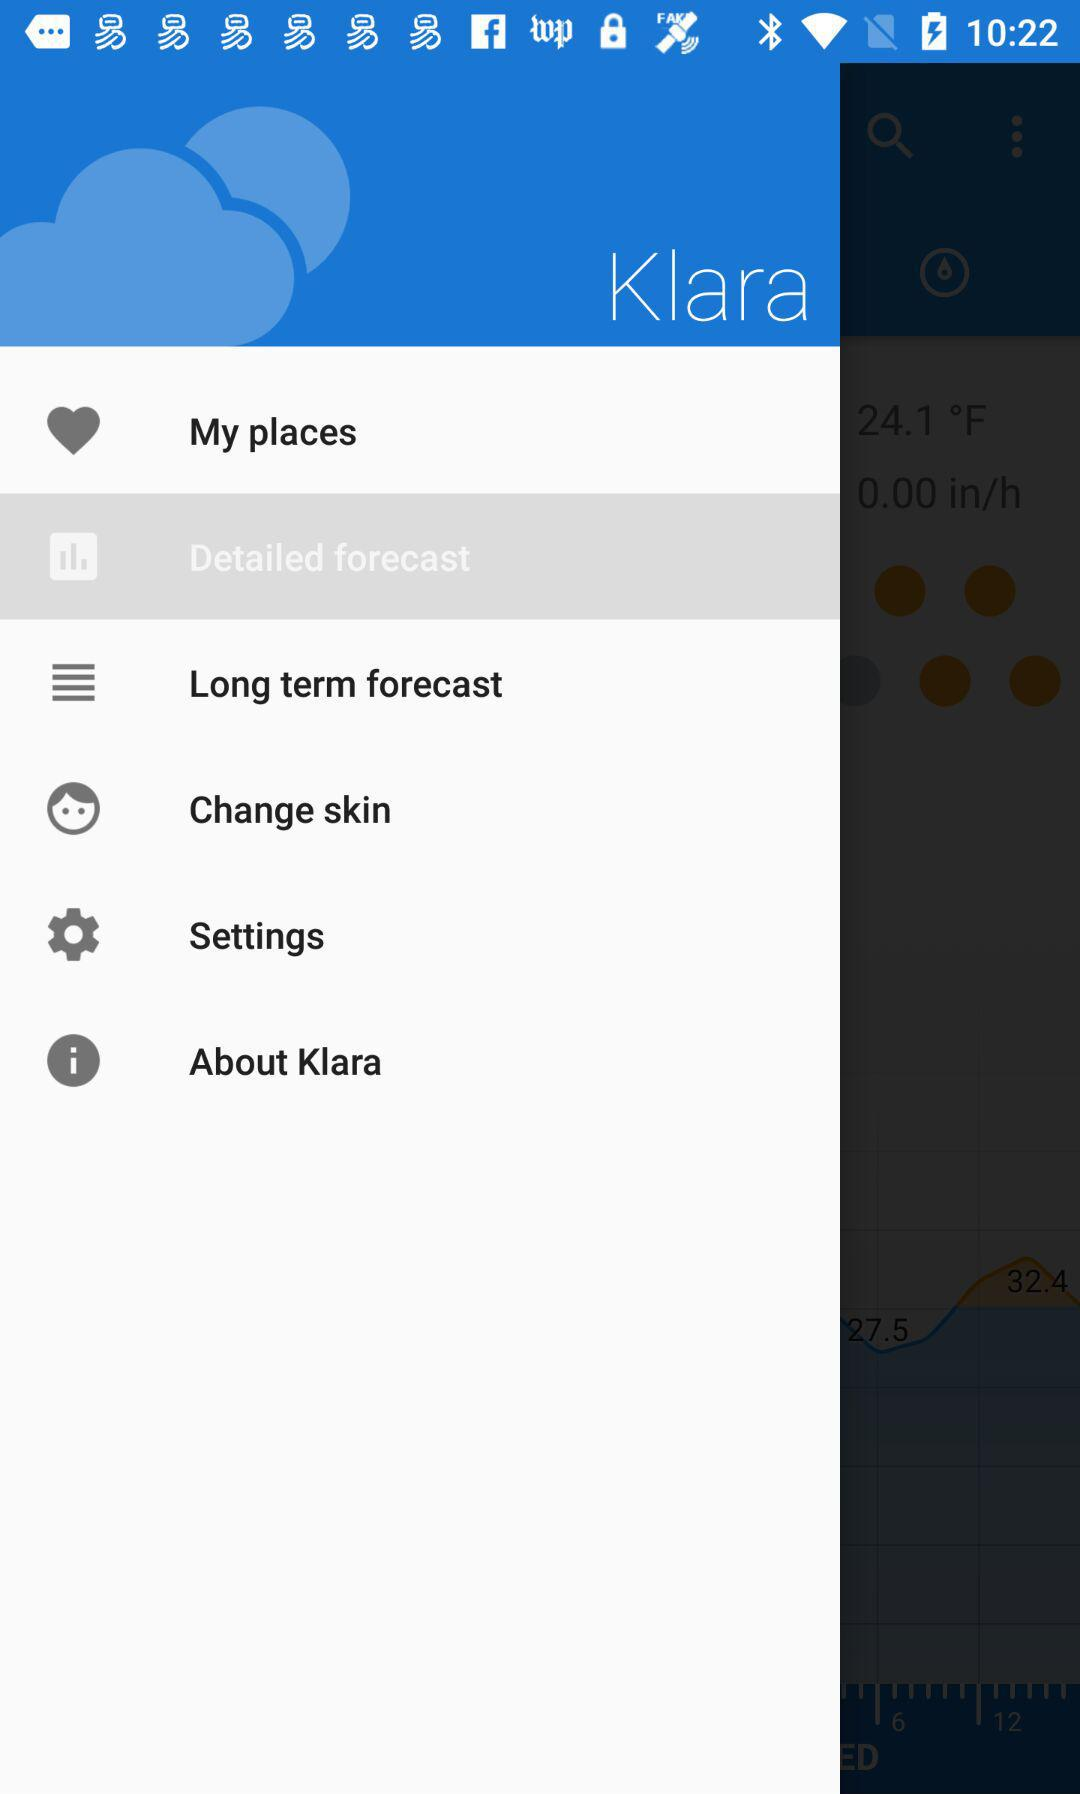Drawer: (1, 64, 840, 1794)
Icon: (47, 1033, 102, 1088), (47, 907, 101, 962), (47, 406, 102, 457), (49, 532, 99, 582), (53, 662, 97, 704)
Image: (47, 780, 102, 837)
Text: (612, 249, 808, 324), (191, 668, 503, 706), (190, 542, 471, 574), (190, 794, 391, 832), (191, 416, 357, 454), (190, 1046, 383, 1076), (190, 921, 325, 959)
UpperTaskBar: (1, 1, 1080, 64)
